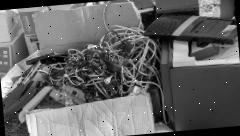electronic: (12, 18, 176, 132)
